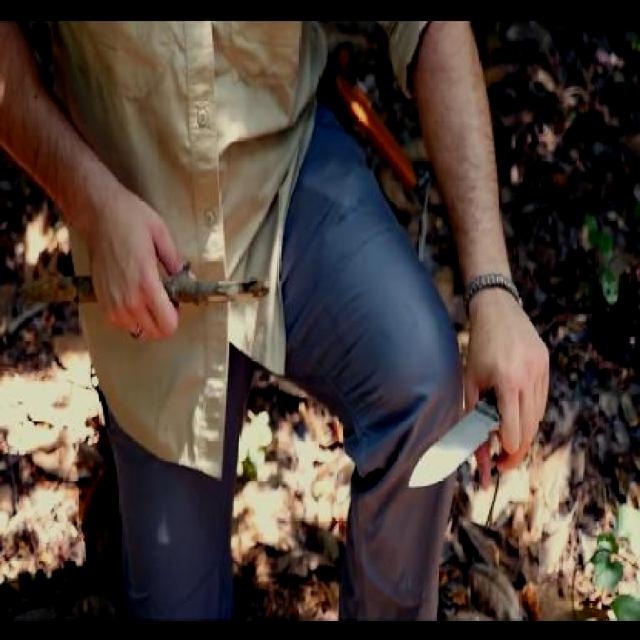knife: (403, 343, 551, 494)
